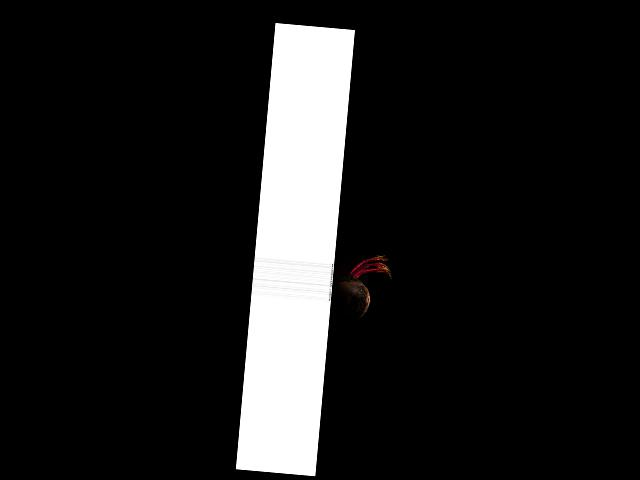beet: (328, 251, 393, 334)
